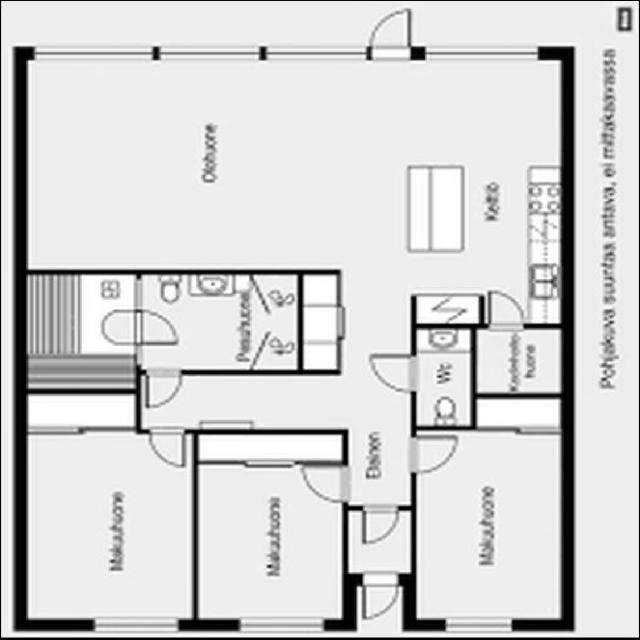door: (406, 432, 459, 477), (367, 352, 420, 397), (298, 462, 352, 505), (367, 8, 413, 58), (482, 287, 528, 333), (358, 576, 402, 622), (131, 308, 181, 348), (141, 368, 186, 410), (145, 427, 189, 469), (99, 307, 145, 347), (358, 506, 402, 545)
window: (422, 46, 541, 66), (87, 614, 183, 637), (232, 614, 327, 637), (34, 46, 152, 63), (267, 46, 364, 64), (162, 46, 258, 64), (439, 615, 516, 637)
zone: (23, 57, 406, 270), (408, 56, 567, 332), (21, 430, 193, 628), (412, 429, 566, 626), (196, 465, 344, 625), (142, 274, 303, 372), (20, 273, 139, 390), (474, 327, 567, 396), (412, 326, 472, 428)
